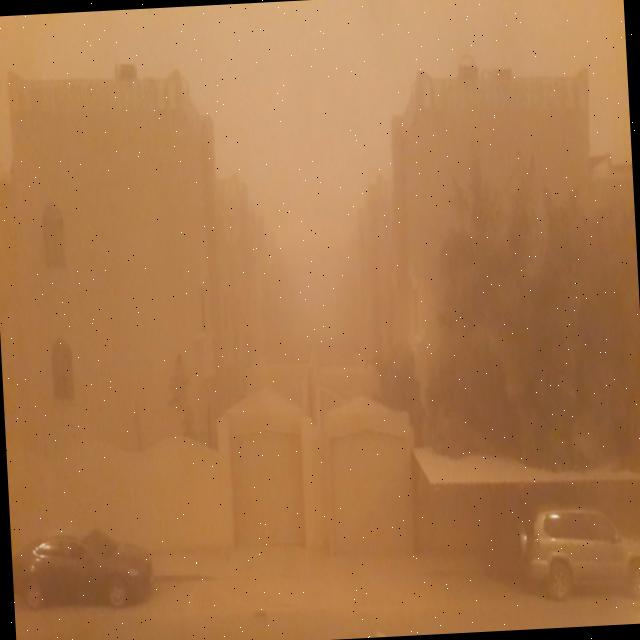car: (516, 500, 640, 605), (17, 524, 155, 614)
